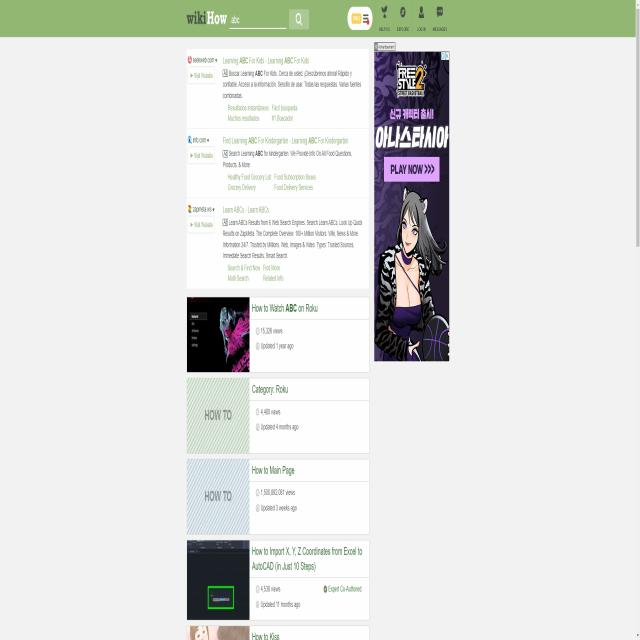menu-bar: (376, 1, 448, 33)
search: (228, 7, 312, 32)
